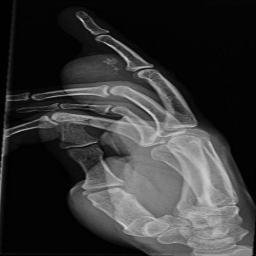cancer: (61, 53, 142, 101)
